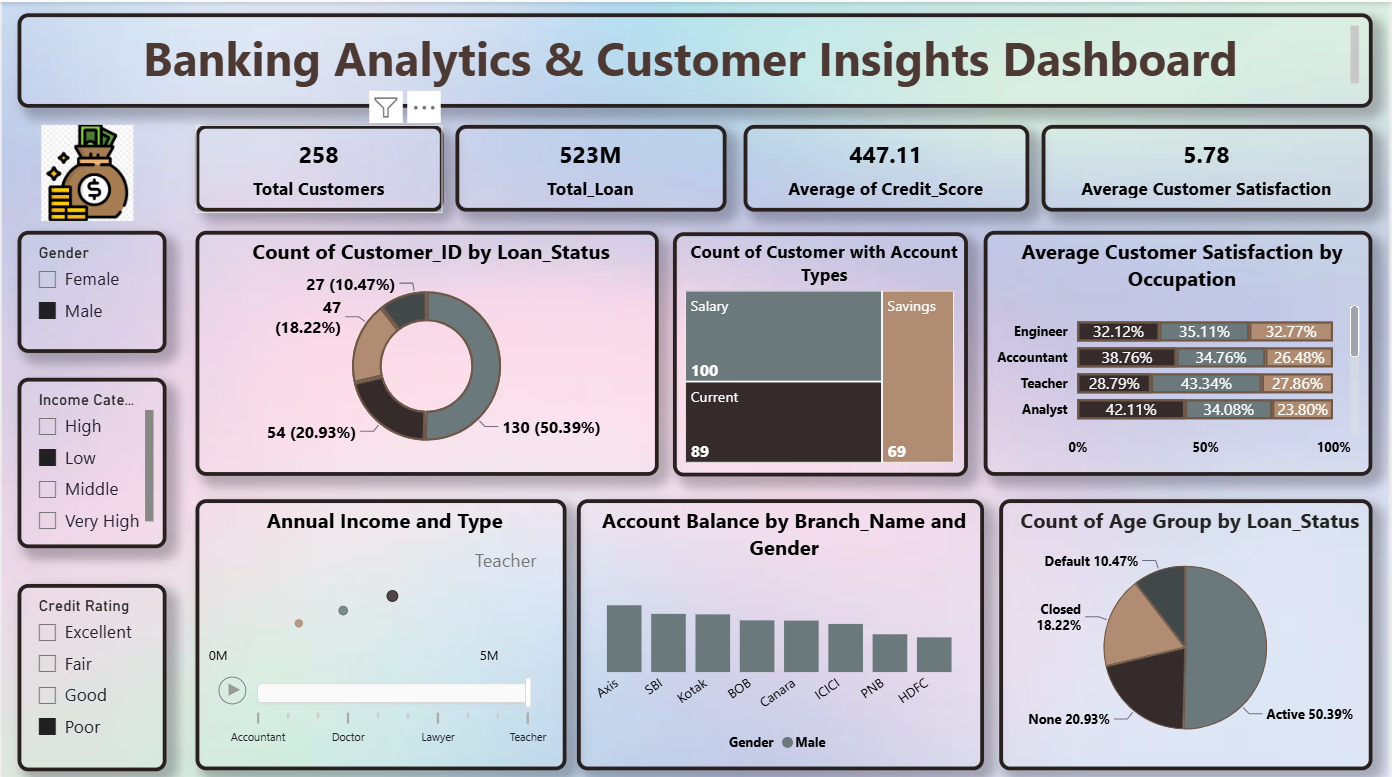

What the dashboard file says about the page in this screenshot:
{"tool":"powerbi","page":{"name":"Page 2","canvas":[1280,720],"ordinal":0},"visuals":[{"type":"donutChart","title":"Count of Customer_ID by Loan_Status","fields":{"Category":["Banking_Data.Loan_Status"],"Y":["CountNonNull(Banking_Data.Customer_ID)"]},"box":[178.6,211.4,427.1,225.7],"z":0},{"type":"pieChart","title":"Count of Age Group by Loan_Status","fields":{"Category":["Banking_Data.Loan_Status"],"Y":["CountNonNull(Banking_Data.Age Group)"]},"box":[918.6,458.6,344.3,250],"z":1000},{"type":"hundredPercentStackedBarChart","title":"Average Customer Satisfaction by Occupation","fields":{"Category":["Banking_Data.Occupation"],"Y":["Banking_Data.Average Customer Satisfaction"],"Series":["Banking_Data.Account_Type"]},"box":[904.3,211.4,358.6,225.7],"z":2000},{"type":"clusteredColumnChart","title":"Account Balance by Branch_Name and Gender","fields":{"Category":["Banking_Data.Branch_Name"],"Y":["Banking_Data.Total Account Balance"],"Series":["Banking_Data.Gender"]},"box":[530,458.3,375,250],"z":3000},{"type":"scatterChart","title":"Annual Income and Type","fields":{"X":["Sum(Banking_Data.Annual_Income)"],"Y":["Sum(Banking_Data.Credit_Score)"],"Size":["Sum(Banking_Data.Account_Balance)"],"Series":["Banking_Data.Account_Type"],"Play":["Banking_Data.Occupation"]},"box":[178.3,458.3,341.7,250],"z":4000},{"type":"textbox","box":[14.3,10,1248.6,87.1],"z":5000},{"type":"card","fields":{"Values":["Banking_Data.Total Customers"]},"box":[178.3,113.3,228.3,80],"z":6000},{"type":"card","fields":{"Values":["Banking_Data.Total_Loan"]},"box":[418.3,113.3,250,80],"z":7000},{"type":"card","fields":{"Values":["Avg(Banking_Data.Credit_Score)"]},"box":[683.3,113.3,263.3,80],"z":8000},{"type":"card","fields":{"Values":["Banking_Data.Average Customer Satisfaction"]},"box":[958.3,113.3,305,80],"z":9000},{"type":"slicer","fields":{"Values":["Banking_Data.Gender"]},"box":[14.3,211.4,137.1,112.9],"z":10000},{"type":"slicer","fields":{"Values":["Banking_Data.Income Category"]},"box":[14.3,345.7,137.1,157.1],"z":11000},{"type":"slicer","fields":{"Values":["Banking_Data.Credit Rating"]},"box":[14.3,535.7,137.1,172.9],"z":12000},{"type":"treemap","title":"Count of Customer with Account Types","fields":{"Group":["Banking_Data.Account_Type"],"Values":["CountNonNull(Banking_Data.Customer_ID)"]},"box":[618.3,211.7,271.7,225],"z":13000},{"type":"image","box":[15.3,113.3,126,88.7],"z":13001}]}

Visuals, with their boxes in screenshot pixels (x1, y1, x2, y2), scaled from the page's 1280x720 canvas onto the 1392x777 screenshot:
"Count of Customer_ID by Loan_Status" donutChart: locate(194, 228, 659, 472)
"Count of Age Group by Loan_Status" pieChart: locate(999, 495, 1373, 765)
"Average Customer Satisfaction by Occupation" hundredPercentStackedBarChart: locate(983, 228, 1373, 472)
"Account Balance by Branch_Name and Gender" clusteredColumnChart: locate(576, 495, 984, 764)
"Annual Income and Type" scatterChart: locate(194, 495, 566, 764)
textbox: locate(16, 11, 1373, 105)
card - Banking_Data.Total Customers: locate(194, 122, 442, 209)
card - Banking_Data.Total_Loan: locate(455, 122, 727, 209)
card - Avg(Banking_Data.Credit_Score): locate(743, 122, 1029, 209)
card - Banking_Data.Average Customer Satisfaction: locate(1042, 122, 1374, 209)
slicer - Banking_Data.Gender: locate(16, 228, 165, 350)
slicer - Banking_Data.Income Category: locate(16, 373, 165, 543)
slicer - Banking_Data.Credit Rating: locate(16, 578, 165, 765)
"Count of Customer with Account Types" treemap: locate(672, 228, 968, 471)
image: locate(17, 122, 154, 218)
